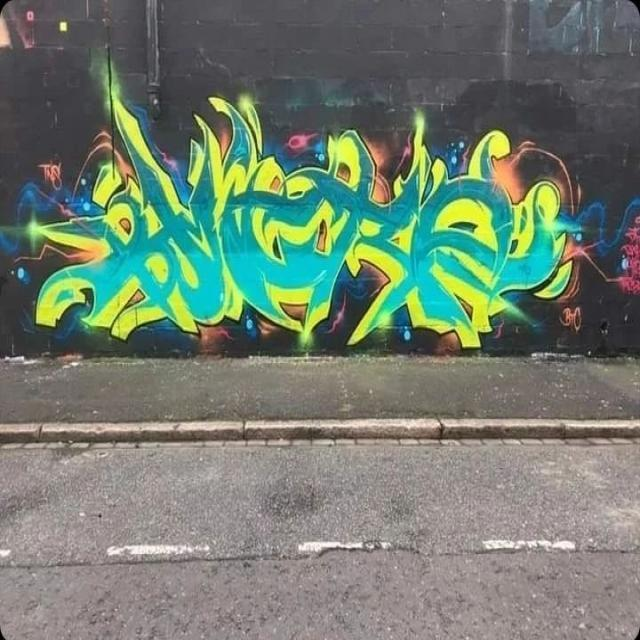-: (33, 60, 613, 348), (34, 156, 66, 195), (558, 303, 588, 335)
